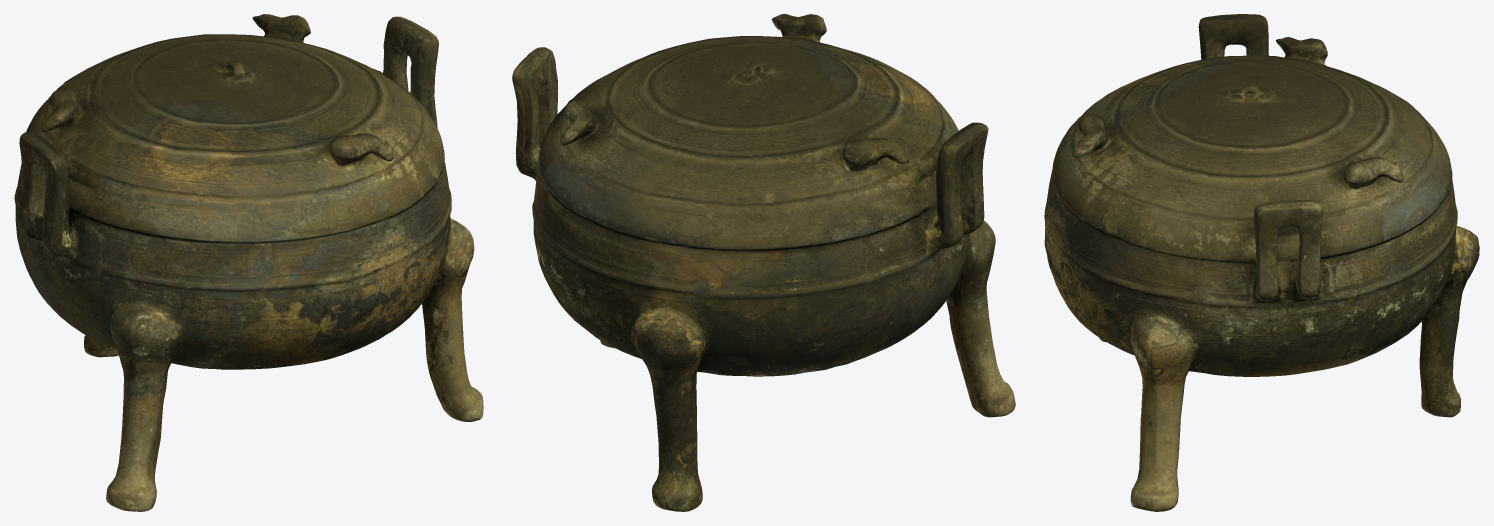
3 renders of one model, left to right at view 1: azimuth 30°, elevation 25°; view 2: azimuth 150°, elevation 25°; view 3: azimuth 270°, elevation 25°, orthographic. The views are drawn at different scales.
Parts seen in each view (by area): view 1: sc_13; view 2: sc_13; view 3: sc_13.
Part boxes in pixels (<box>): sc_13: <box>14,14,483,511</box>; sc_13: <box>512,14,1015,511</box>; sc_13: <box>1044,14,1479,511</box>.
Bounding box in the file's own units: 36.46 × 29.78 × 34.74.
